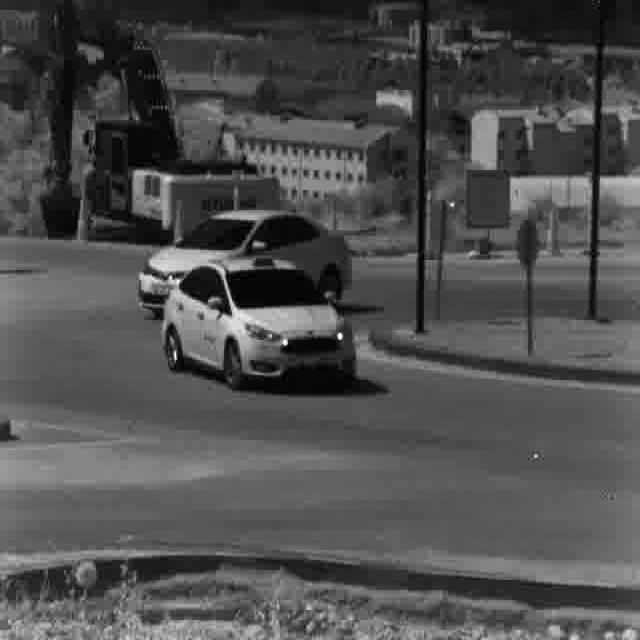Car: (134, 210, 356, 321), (162, 260, 356, 385)
